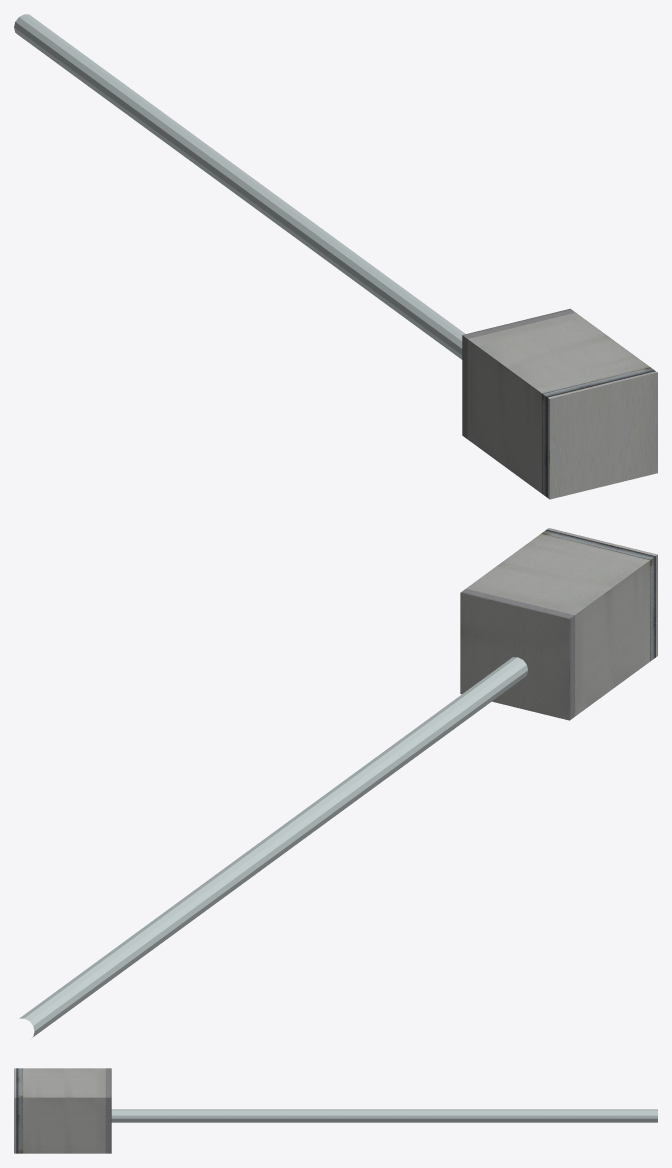
File: czx001-geode.glb
3 renders of one model, top to bottom at view 1: azimuth 30°, elevation 25°; view 2: azimuth 150°, elevation 25°; view 3: azimuth 270°, elevation 25°, orthographic. The views are drawn at different scales.
Parts seen in each view (by area): view 1: Node; view 2: Node; view 3: Node.
Part boxes in pixels (x1,y1,x2,y2): Node: (14,14,657,499); Node: (19,528,657,1037); Node: (14,1068,657,1153).
Size of the model in its own units: 0.2055 by 0.1823 by 1.9.
Materials: 2 (2 with a texture image).
